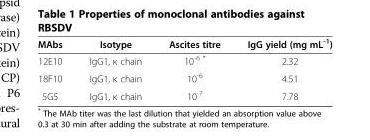table: (36, 36, 331, 101)
table column: (233, 36, 331, 101), (75, 36, 154, 101), (154, 36, 233, 101), (36, 36, 75, 101)
table column header: (36, 36, 331, 51)
table row: (36, 68, 331, 86), (36, 51, 331, 68), (36, 36, 331, 51), (36, 86, 331, 101)
